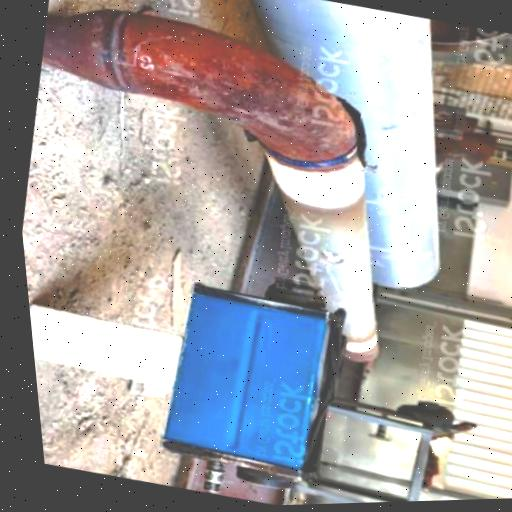corrosion: (31, 0, 392, 185)
